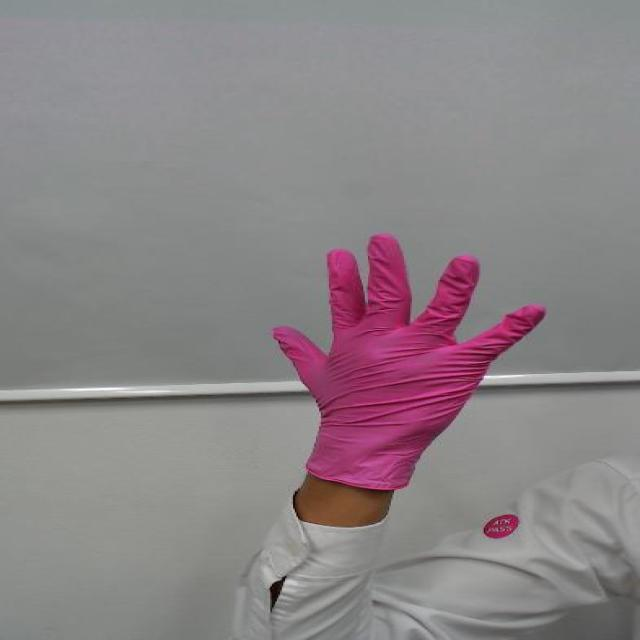gloved_hand: (254, 224, 567, 435)
